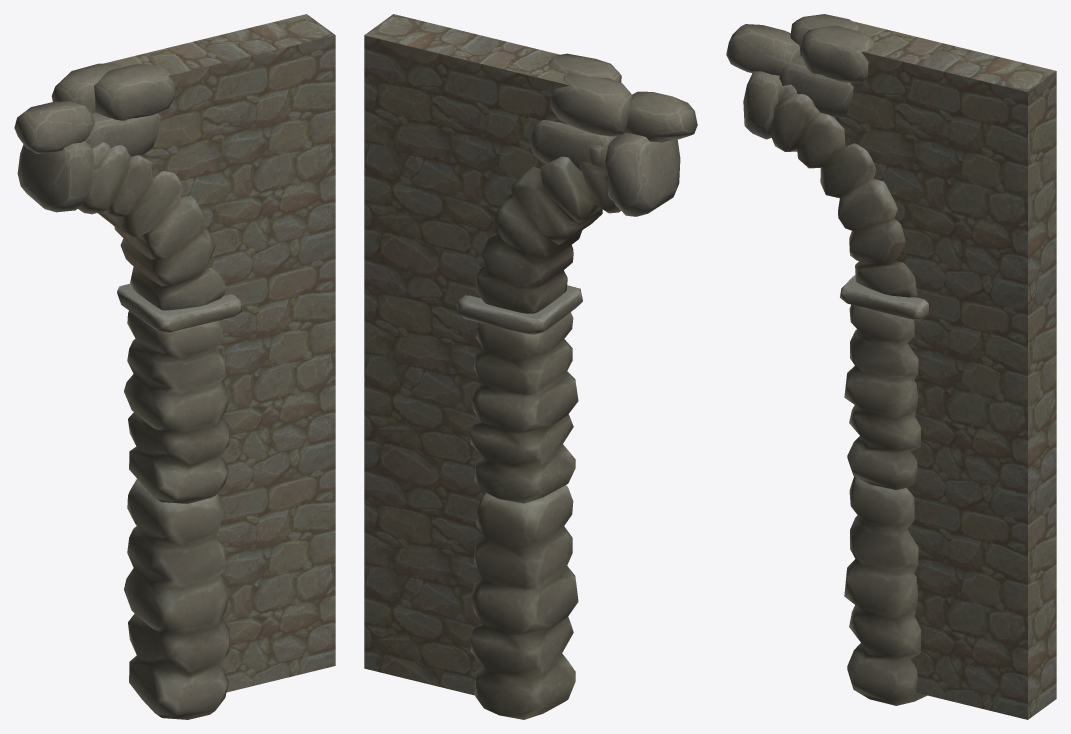
File: SM_FW01_Ruins_Int_Doorway_A_6x6_Brkn_01.fbx
The picture shows the model from 3 angles, left to right: view 1: azimuth 30°, elevation 25°; view 2: azimuth 150°, elevation 25°; view 3: azimuth 330°, elevation 25°; orthographic projection.
Visible parts, largest first — view 1: SM_FW01_Ruins_Int_Doorway_A_6x6_Brkn_01, SM_FW01_Ruins_Int_Doorway_A_6x6_Brkn_01_LOD0; view 2: SM_FW01_Ruins_Int_Doorway_A_6x6_Brkn_01, SM_FW01_Ruins_Int_Doorway_A_6x6_Brkn_01_LOD0; view 3: SM_FW01_Ruins_Int_Doorway_A_6x6_Brkn_01, SM_FW01_Ruins_Int_Doorway_A_6x6_Brkn_01_LOD0.
Part boxes in pixels (box(x1,y1,x2,y2)): SM_FW01_Ruins_Int_Doorway_A_6x6_Brkn_01: box(105, 14, 335, 692); SM_FW01_Ruins_Int_Doorway_A_6x6_Brkn_01_LOD0: box(14, 63, 241, 719); SM_FW01_Ruins_Int_Doorway_A_6x6_Brkn_01: box(364, 14, 569, 695); SM_FW01_Ruins_Int_Doorway_A_6x6_Brkn_01_LOD0: box(456, 53, 697, 719); SM_FW01_Ruins_Int_Doorway_A_6x6_Brkn_01: box(834, 21, 1056, 719); SM_FW01_Ruins_Int_Doorway_A_6x6_Brkn_01_LOD0: box(726, 14, 928, 705).
Size of what is drawn, in the model's own units: 3.05 by 6.19 by 0.869.
